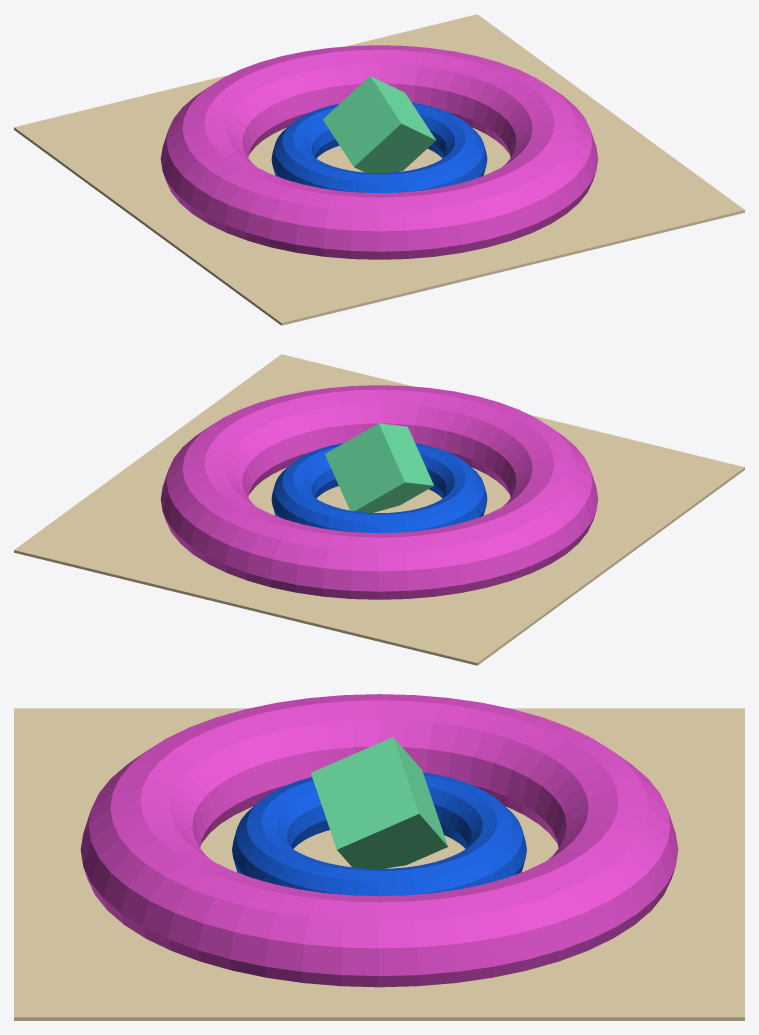
3 views of the same model, one above another, from view 1: azimuth 30°, elevation 25°; view 2: azimuth 150°, elevation 25°; view 3: azimuth 270°, elevation 25° (orthographic). The views are drawn at different scales.
Parts seen in each view (by area): view 1: Torus.001, Cube.001, Torus, Cube; view 2: Torus.001, Cube.001, Torus, Cube; view 3: Torus.001, Cube.001, Torus, Cube.
Part boxes in pixels (left/top/right/bottom): Torus.001: left=160, top=45, right=598, bottom=259; Cube.001: left=14, top=14, right=744, bottom=325; Torus: left=271, top=102, right=487, bottom=192; Cube: left=323, top=76, right=436, bottom=172; Torus.001: left=160, top=385, right=598, bottom=599; Cube.001: left=14, top=354, right=744, bottom=665; Torus: left=271, top=443, right=487, bottom=532; Cube: left=325, top=423, right=433, bottom=512; Torus.001: left=80, top=694, right=678, bottom=987; Cube.001: left=14, top=708, right=744, bottom=1020; Torus: left=232, top=772, right=526, bottom=896; Cube: left=311, top=737, right=447, bottom=868.
Bounding box in the file's own units: 16.03 × 3.84 × 16.03.
